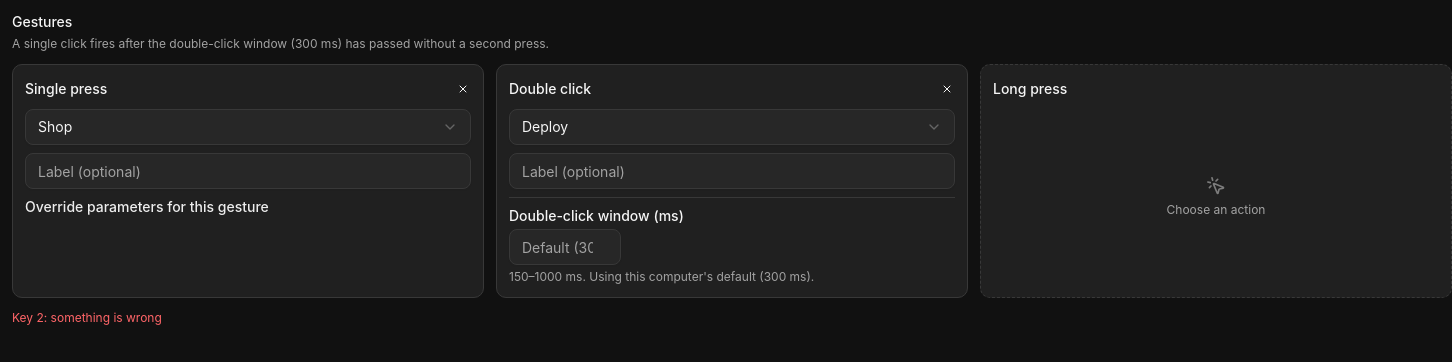
Test: gesture cards › explains invalid timings and the backend's messages
Type "90" into the number field labelled "Double-click window (ms)".
click(565, 247); type("90")  # box left=509, top=229, right=621, bottom=265
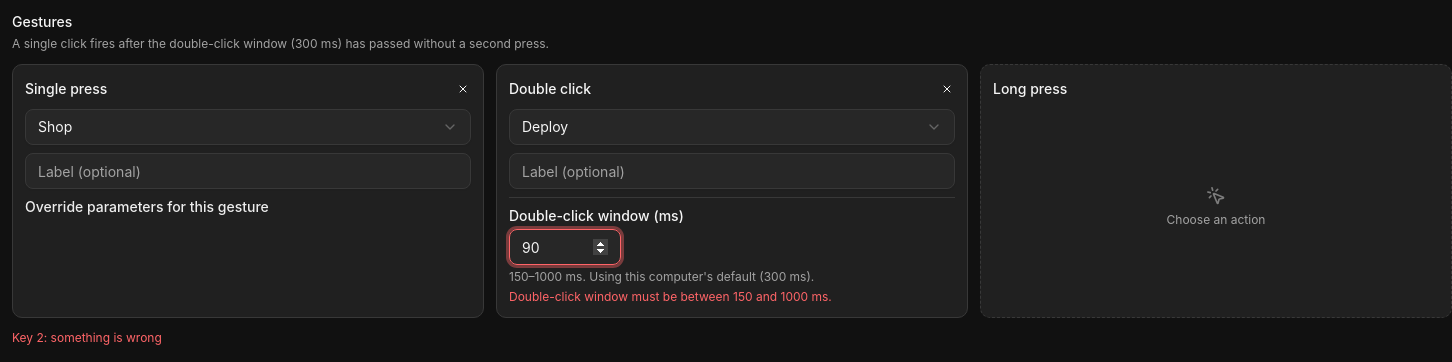
Check: the messages read "Double-click window must be between 150 and 1000 ms.", "Key 2: something is wrong", in this order, box left=509, top=289, right=832, bottom=304; left=12, top=330, right=162, bottom=345
